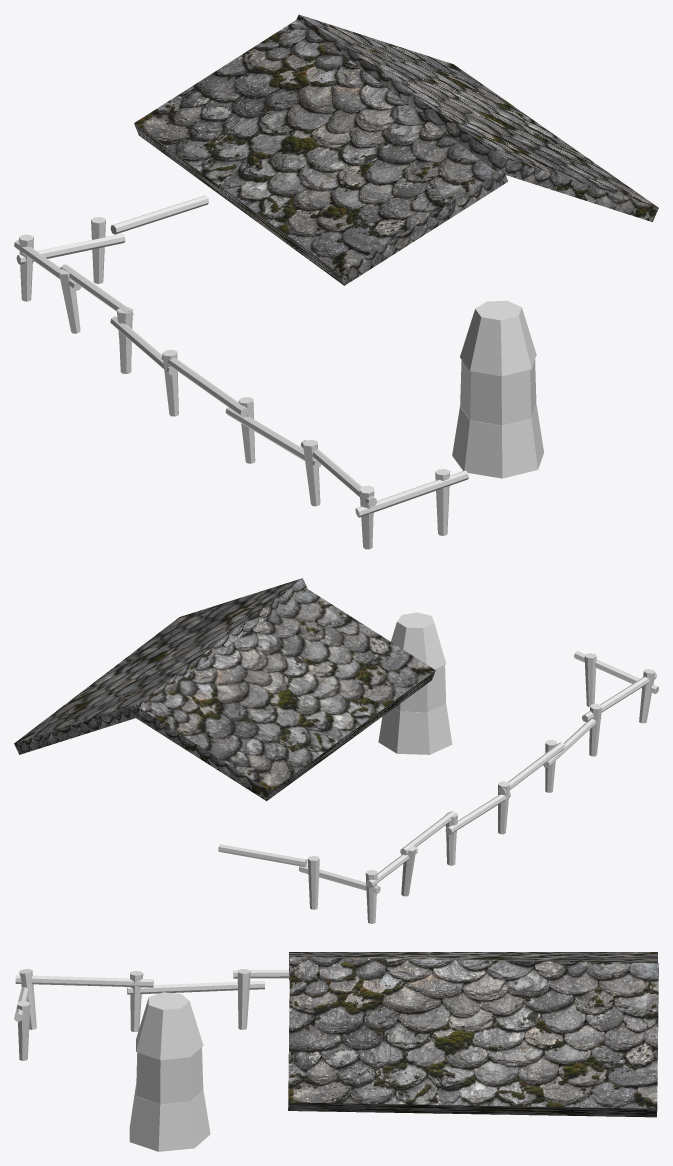
File: blacksmith.glb
3 views of the same model, one above another, from view 1: azimuth 30°, elevation 25°; view 2: azimuth 150°, elevation 25°; view 3: azimuth 270°, elevation 25° (orthographic). The views are drawn at different scales.
Parts seen in each view (by area): view 1: _cs_roof, _cs_rs_mat-wooddark, _cs_mat-forge, _cs_mat-furnace; view 2: _cs_roof, _cs_rs_mat-wooddark, _cs_mat-forge, _cs_mat-furnace; view 3: _cs_roof, _cs_mat-forge, _cs_rs_mat-wooddark, _cs_mat-furnace.
Part boxes in pixels (x1=…): _cs_roof: x1=134, y1=14, x2=658, y2=285; _cs_rs_mat-wooddark: x1=14, y1=195, x2=468, y2=549; _cs_mat-forge: x1=452, y1=300, x2=543, y2=478; _cs_mat-furnace: x1=460, y1=360, x2=536, y2=425; _cs_roof: x1=14, y1=578, x2=435, y2=801; _cs_rs_mat-wooddark: x1=218, y1=651, x2=658, y2=923; _cs_mat-forge: x1=378, y1=612, x2=452, y2=754; _cs_mat-furnace: x1=394, y1=665, x2=446, y2=712; _cs_roof: x1=288, y1=952, x2=658, y2=1117; _cs_mat-forge: x1=129, y1=992, x2=210, y2=1151; _cs_rs_mat-wooddark: x1=14, y1=969, x2=288, y2=1060; _cs_mat-furnace: x1=136, y1=1047, x2=203, y2=1104.
Size of the model in its own units: 5.18 by 2.54 by 7.11.
Materials: 1 (1 with a texture image).
